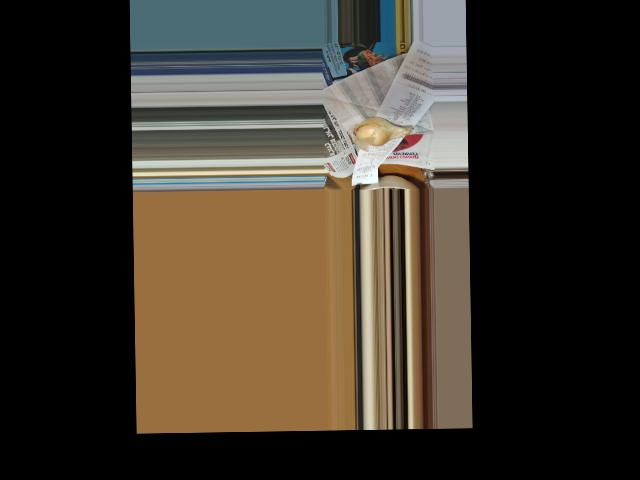onion: (355, 115, 406, 144)
